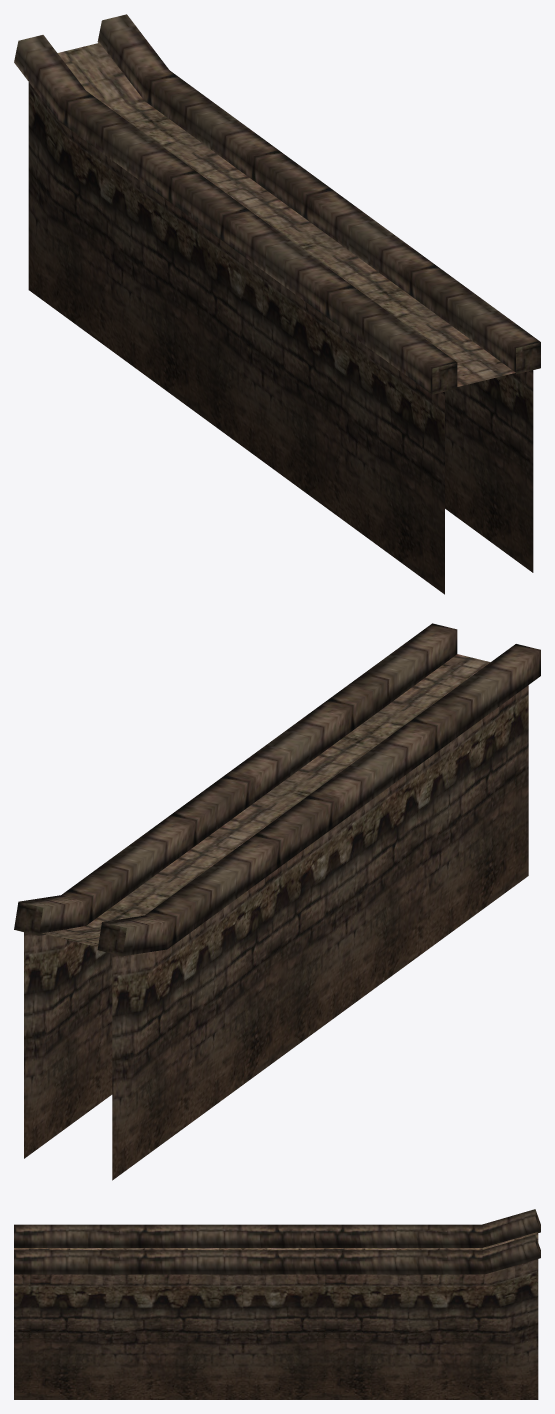
Rendered from wall011.fbx.
3 views of the same model, one above another, from view 1: azimuth 30°, elevation 25°; view 2: azimuth 150°, elevation 25°; view 3: azimuth 270°, elevation 25° (orthographic). The views are drawn at different scales.
Visible parts, largest first — view 1: wall011; view 2: wall011; view 3: wall011.
Part boxes in pixels (x1,y1,x2,y2): wall011: [14, 14, 540, 594]; wall011: [14, 623, 540, 1180]; wall011: [14, 1209, 540, 1399].
Bounding box in the file's own units: 400 × 895 × 2673.
